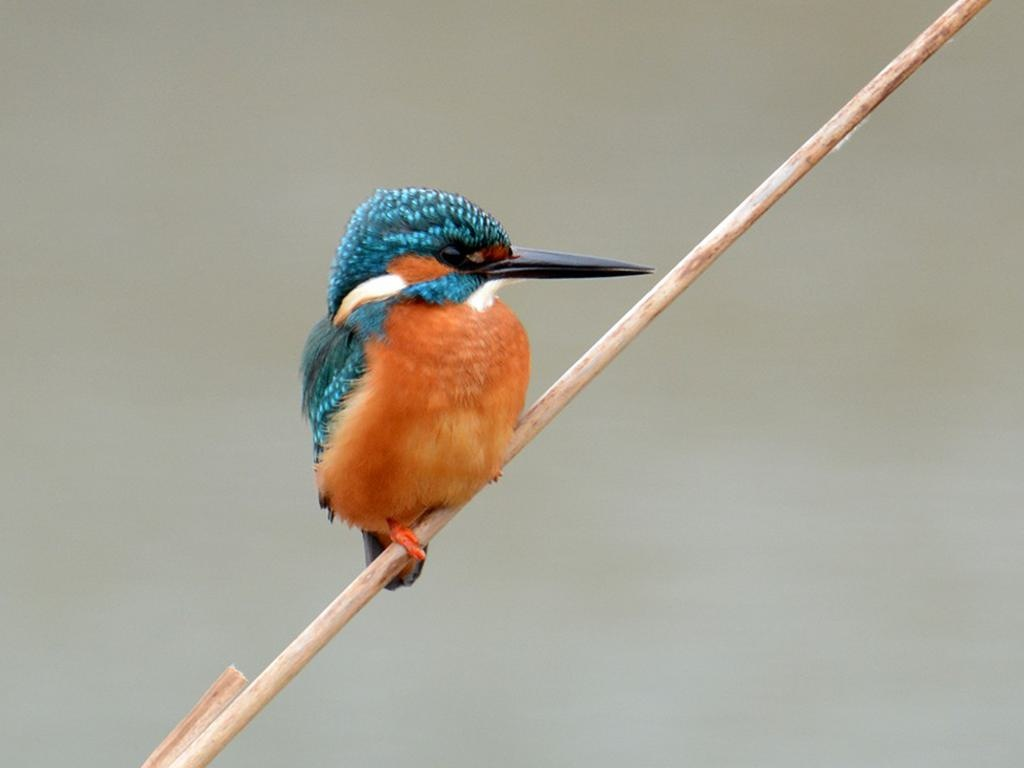kingfisher: (300, 170, 662, 603)
